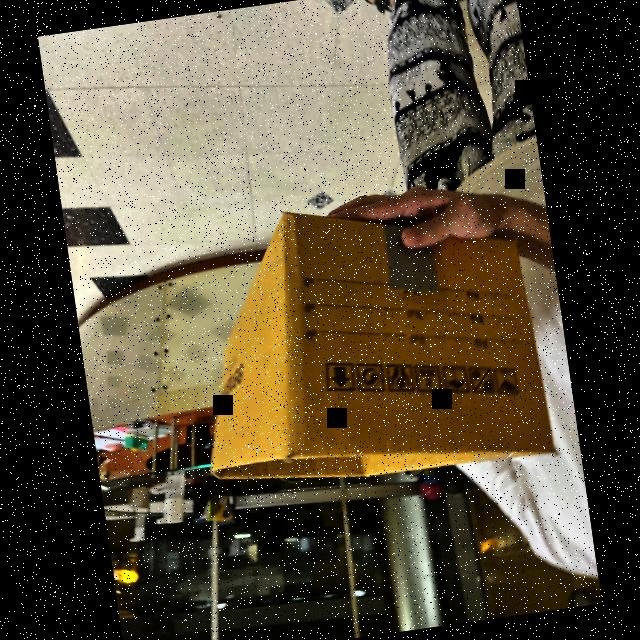cardboard_box: (210, 206, 558, 481)
